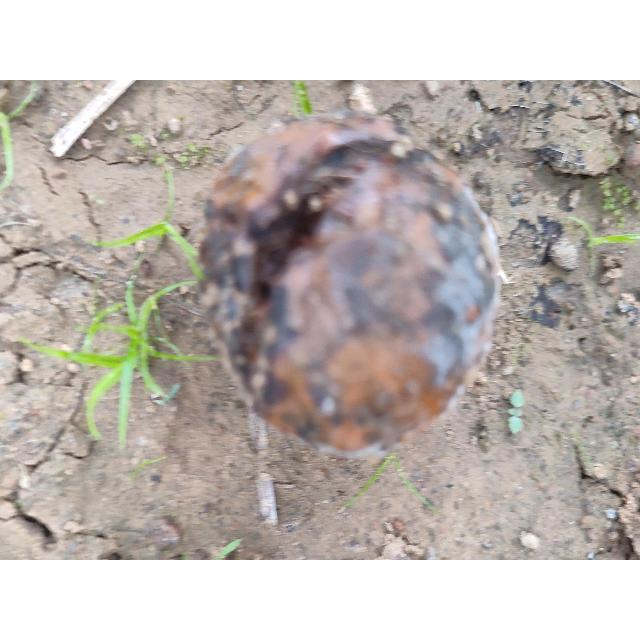damaged: (193, 112, 505, 462)
